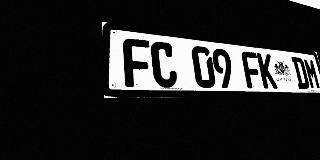0: (191, 45, 216, 88)
9: (211, 48, 235, 88)
C: (150, 41, 178, 88)
D: (291, 57, 310, 89)
F: (123, 38, 153, 87), (241, 51, 263, 89)
K: (256, 53, 278, 89)
M: (303, 58, 320, 89)
